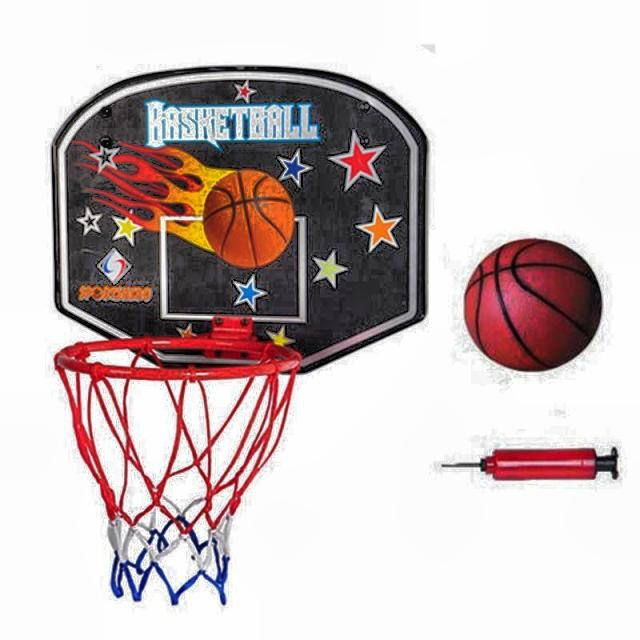board: (462, 238, 604, 372)
rim: (55, 338, 304, 607)
